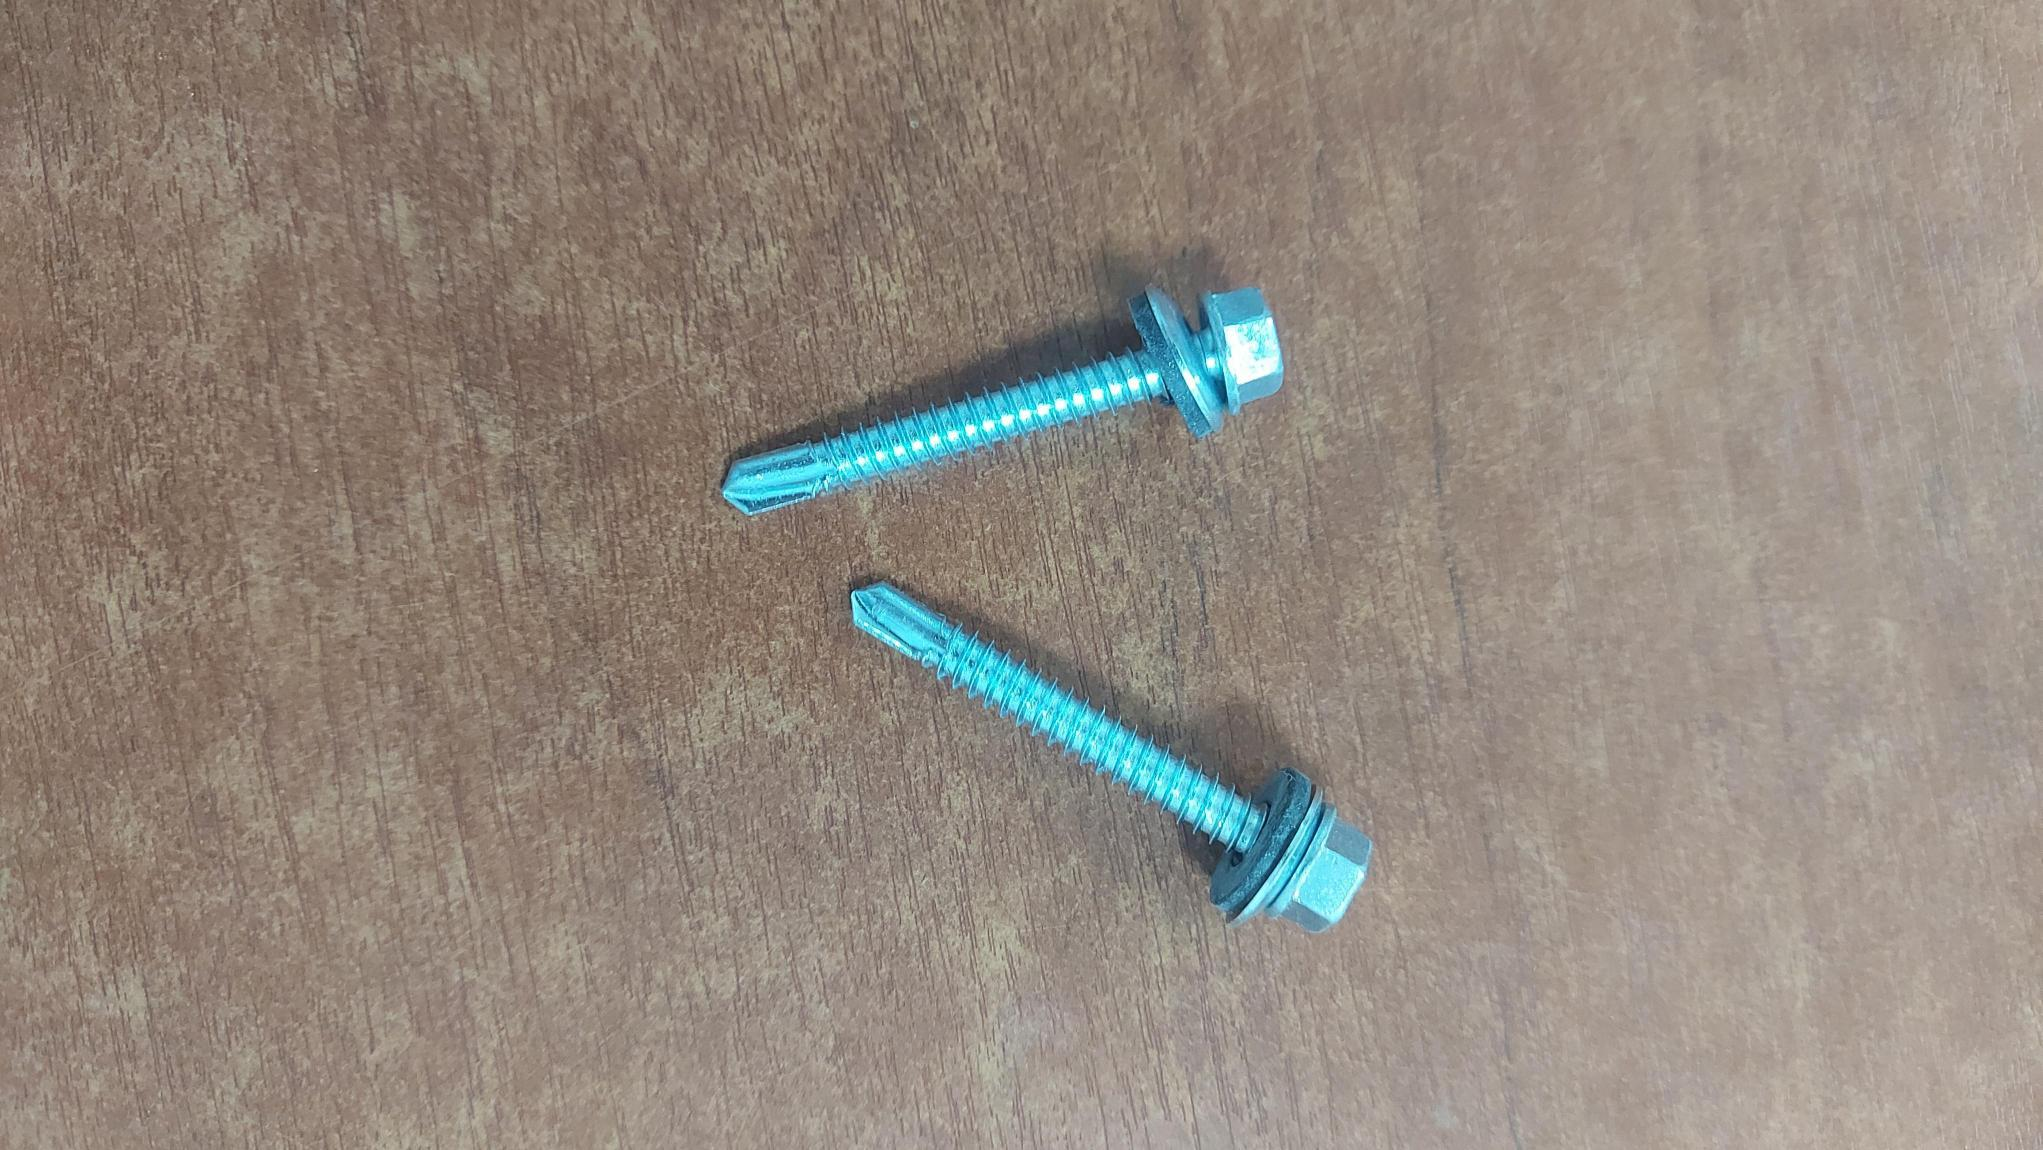Screw: (850, 582, 1371, 933), (724, 287, 1282, 515)
